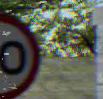Speed limit: (0, 6, 46, 98)
